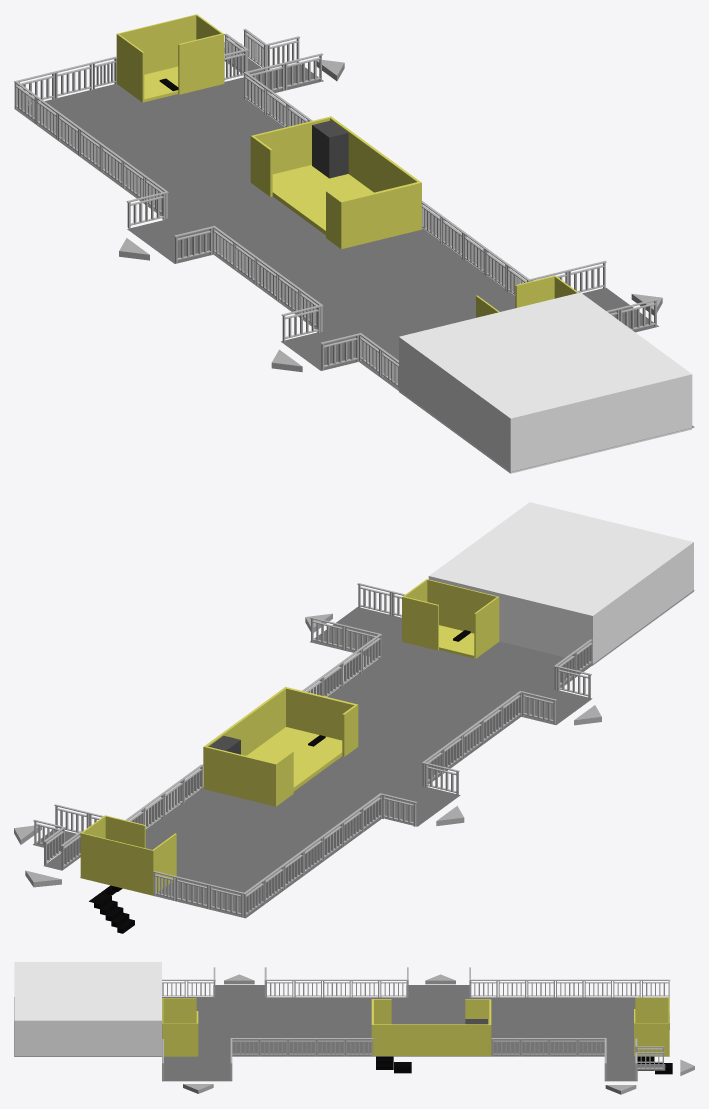
3 views of the same model, one above another, from view 1: azimuth 30°, elevation 25°; view 2: azimuth 150°, elevation 25°; view 3: azimuth 270°, elevation 25° (orthographic). The views are drawn at different scales.
Visible parts, largest first — view 1: object, 購買会, エレベーター_8_5; view 2: object, 購買会, 階段_8_5_1; view 3: object, 購買会, 階段_8_5_3, 階段_8_5_1, transitionTo_9号館_8_8_5_1, transitionTo_9号館_8_8_5_2.
Boxes of the visible parts, <box> form: object: <box>14,14,694,472</box>; 購買会: <box>399,292,692,473</box>; エレベーター_8_5: <box>312,120,348,178</box>; object: <box>33,579,694,918</box>; 購買会: <box>428,502,693,665</box>; 階段_8_5_1: <box>89,885,134,933</box>; object: <box>14,967,670,1081</box>; 購買会: <box>14,962,161,1056</box>; 階段_8_5_3: <box>376,1056,411,1073</box>; 階段_8_5_1: <box>637,1056,672,1074</box>; transitionTo_9号館_8_8_5_1: <box>224,974,254,984</box>; transitionTo_9号館_8_8_5_2: <box>425,974,455,984</box>.
Bounding box in the file's own units: 1.25 × 0.3359 × 3.09.
